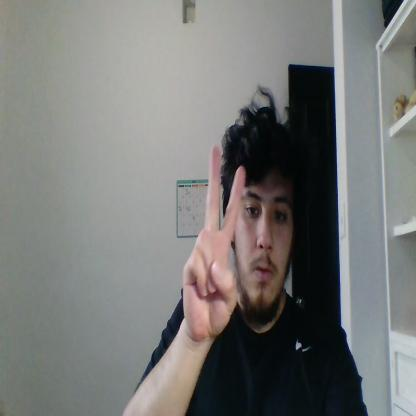V: (182, 145, 245, 340)
